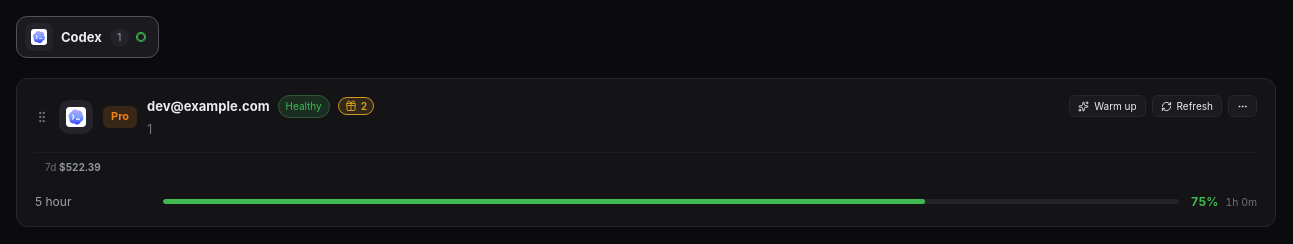
Scenario: AccountsSurface component › reports banked resets by count, nearest expiry, and per-credit dates
Click the button with test id "account-reset-credits".
click(356, 106)  # box top-left (338, 97), bottom-right (374, 115)
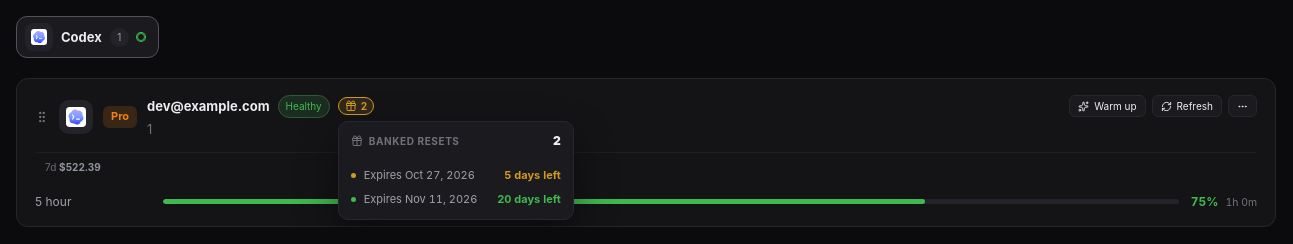
Expected: the number of list items is 2, top-left (347, 165), bottom-right (565, 186); top-left (347, 189), bottom-right (565, 210)
Expected: the list item "Expires Oct 27, 2026 5 days left" is shown, top-left (347, 165), bottom-right (565, 186)
Expected: the list item "Expires Nov 11, 2026 20 days left" is shown, top-left (347, 189), bottom-right (565, 210)
Press Escape
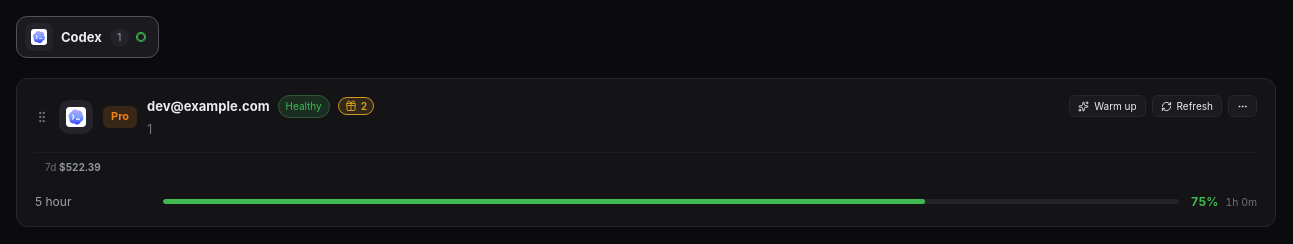
Expected: the element with test id "account-reset-credits-list" is gone
